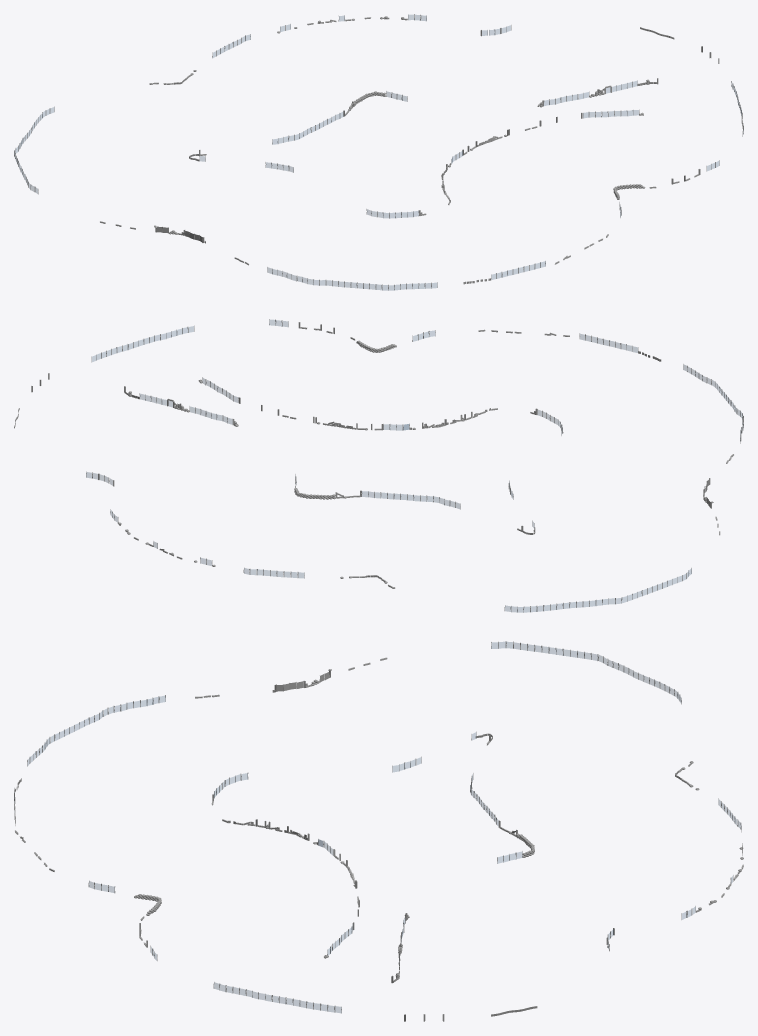
File: TrackBarrier.fbx
3 views of the same model, one above another, from view 1: azimuth 30°, elevation 25°; view 2: azimuth 150°, elevation 25°; view 3: azimuth 270°, elevation 25° (orthographic). The views are drawn at different scales.
Visible parts, largest first — view 1: Track_Barrier; view 2: Track_Barrier; view 3: Track_Barrier.
Boxes of the visible parts, box(x1,y1,x2,y2) form: Track_Barrier: box(14, 14, 743, 290); Track_Barrier: box(14, 319, 743, 612); Track_Barrier: box(14, 641, 743, 1021).
Size of the model in its own units: 38928 by 405 by 32121.
